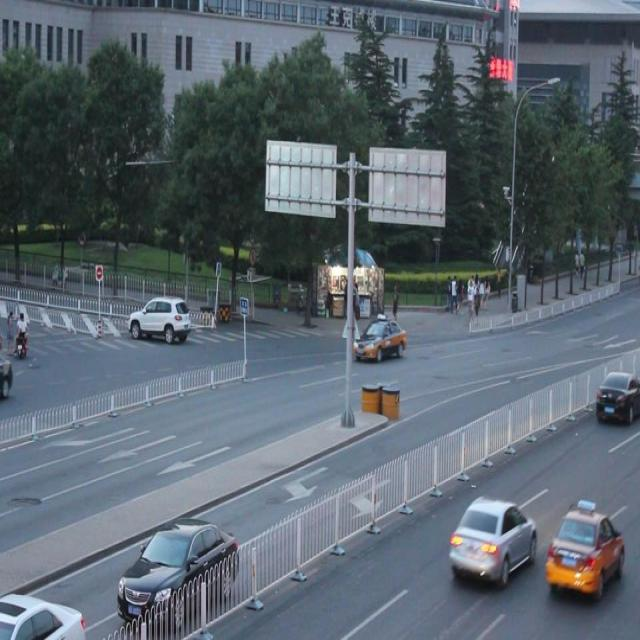car: (119, 517, 240, 618), (543, 497, 624, 598), (448, 493, 537, 584), (0, 588, 84, 640), (128, 298, 191, 342), (352, 316, 407, 361), (595, 369, 640, 424), (1, 345, 13, 398)
